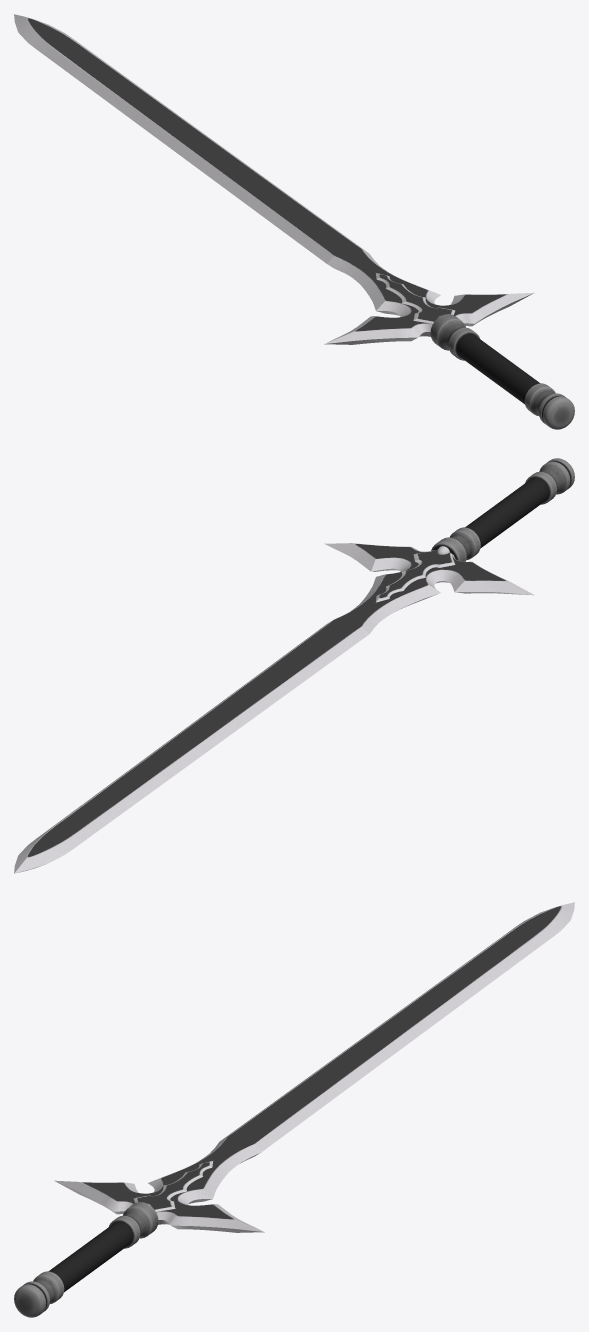
The model's file is KiritoSwBase.fbx.
The picture shows the model from 3 angles, top to bottom: view 1: azimuth 30°, elevation 25°; view 2: azimuth 150°, elevation 25°; view 3: azimuth 330°, elevation 25°; orthographic projection.
Parts seen in each view (by area): view 1: hand_low.001; view 2: hand_low.001; view 3: hand_low.001.
Part boxes in pixels (x1,y1,x2,y2): hand_low.001: (14,14,574,429); hand_low.001: (14,458,574,873); hand_low.001: (14,902,574,1317).
Size of the model in its own units: 30.6 by 4.27 by 138.
Materials: 1 (1 with a texture image).
